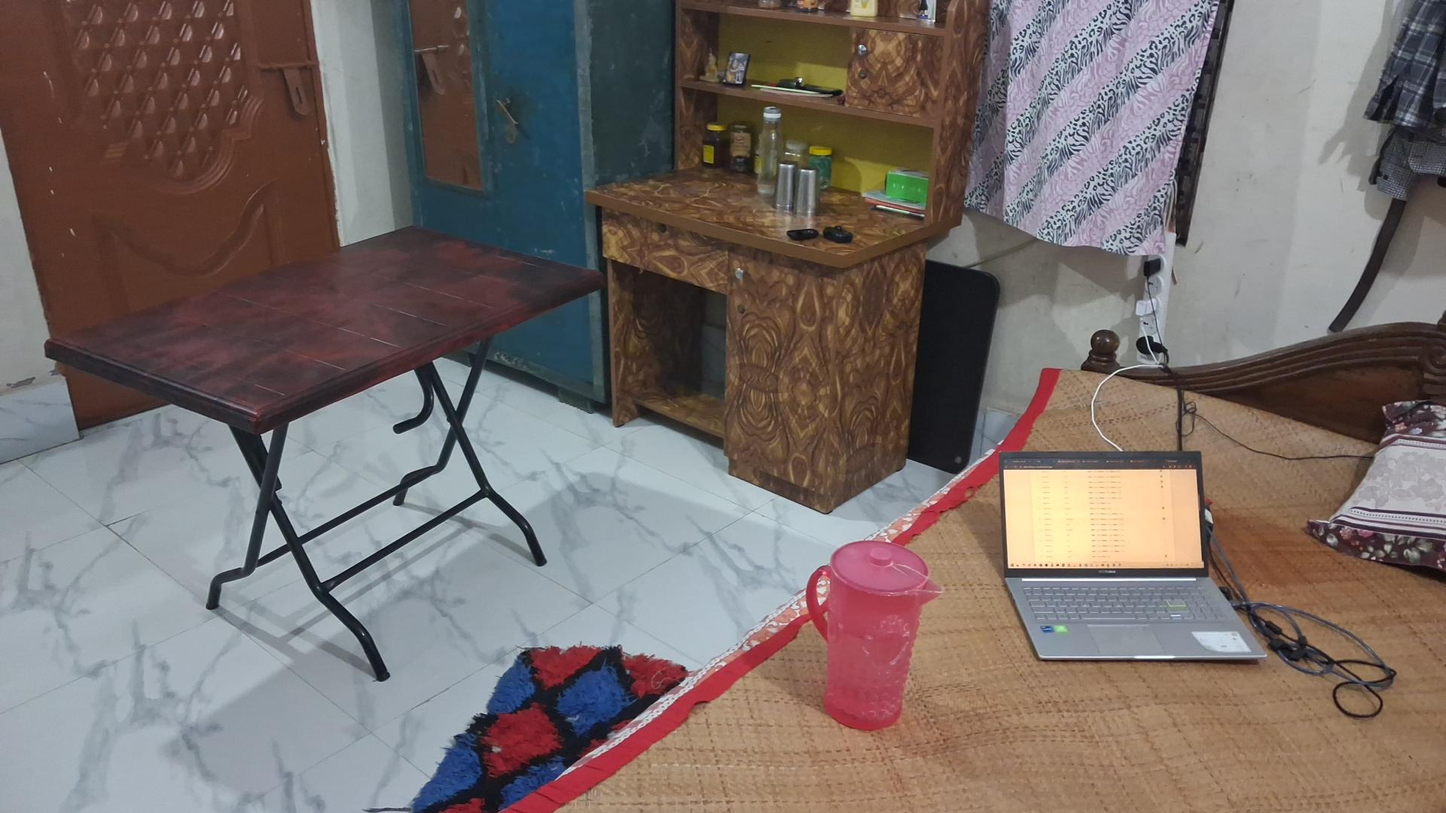Bottle: (754, 107, 782, 195)
Box: (883, 167, 928, 203)
Floor Mat: (372, 651, 684, 808)
Glass: (796, 167, 820, 216), (776, 161, 796, 210)
Jar: (700, 121, 728, 170), (728, 122, 753, 173)
Jug: (806, 539, 942, 732)
Laptop: (999, 450, 1267, 663)
Table: (44, 228, 602, 679)
